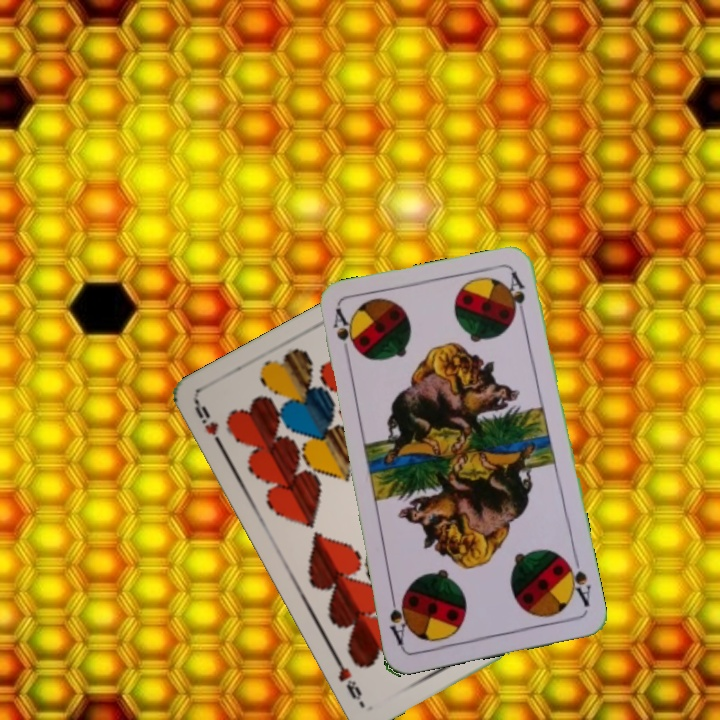H9: (190, 398, 227, 453)
SA: (560, 553, 594, 610), (328, 305, 355, 364)
